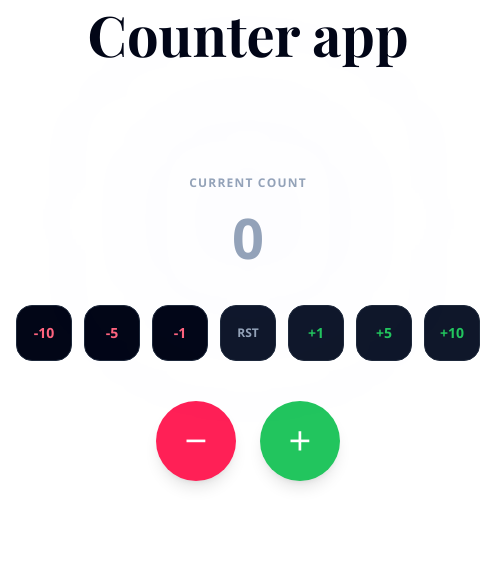
Test: Counter component › increments when the +1 button is clicked
What coordinates should you click on to do the following:
click the button named "Increment by 1"
I would click on:
 (300, 440)
Its box is [260, 400, 340, 480].
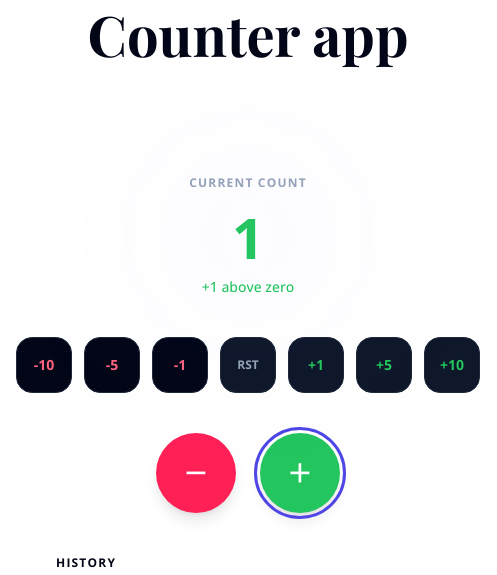
Now the text "+1 above zero" is shown, box [202, 276, 294, 296]
